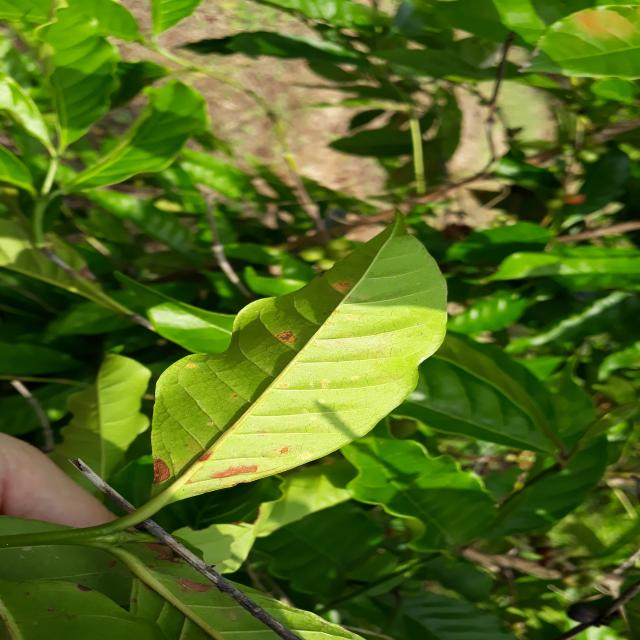Plaga-AranaRoja: (134, 211, 449, 521)
